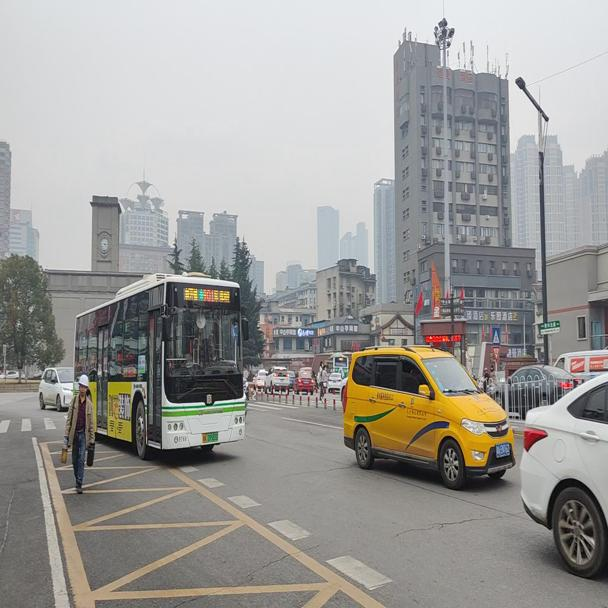bus: (71, 268, 249, 462)
screen: (202, 287, 213, 301)
